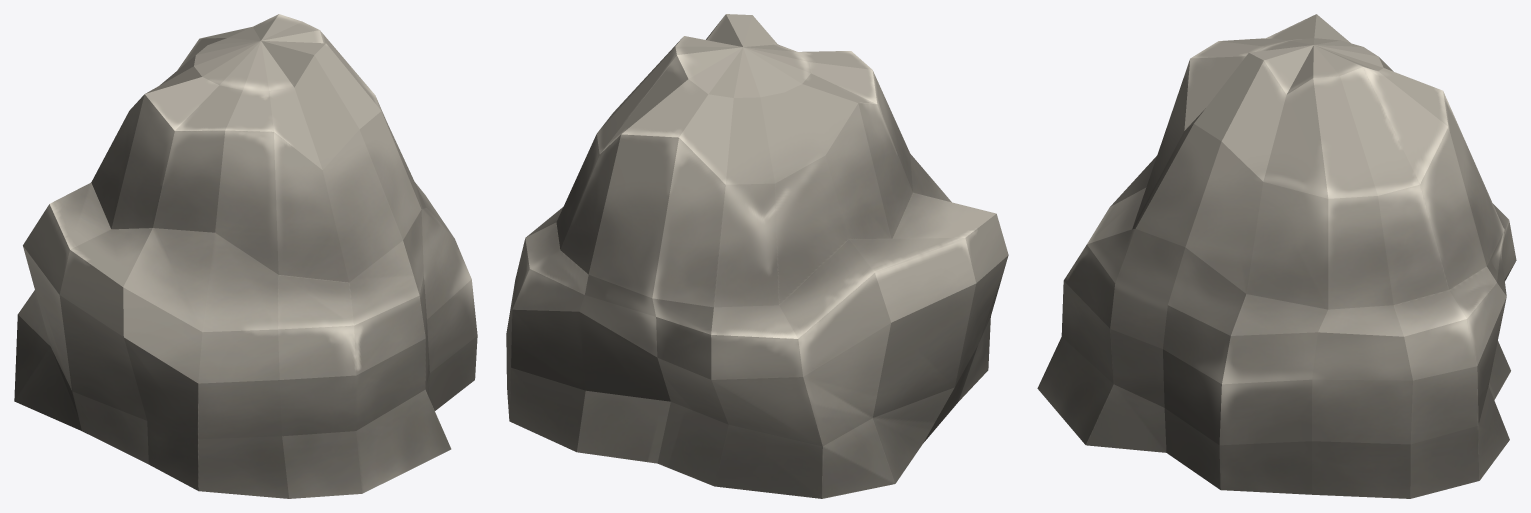
Rendered from crystal_02.glb.
The picture shows the model from 3 angles, left to right: view 1: azimuth 30°, elevation 25°; view 2: azimuth 150°, elevation 25°; view 3: azimuth 270°, elevation 25°; orthographic projection. The views are drawn at different scales.
Visible parts, largest first — view 1: crystal_02; view 2: crystal_02; view 3: crystal_02.
Part boxes in pixels (<box>): crystal_02: <box>14,14,477,498</box>; crystal_02: <box>506,14,1008,498</box>; crystal_02: <box>1037,14,1516,498</box>.
Bounding box in the file's own units: 1.35 × 1.13 × 1.34.
1 material, 1 textured.
